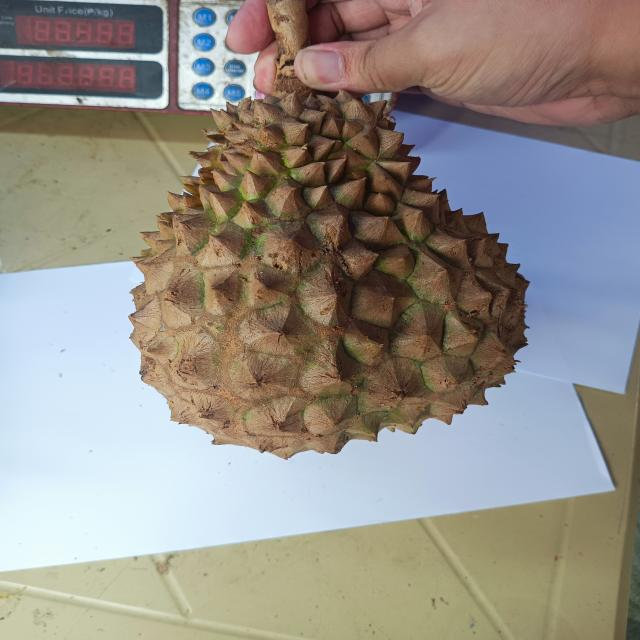mature: (131, 92, 528, 458)
